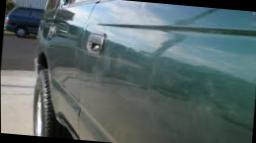Door: (38, 11, 76, 52)
